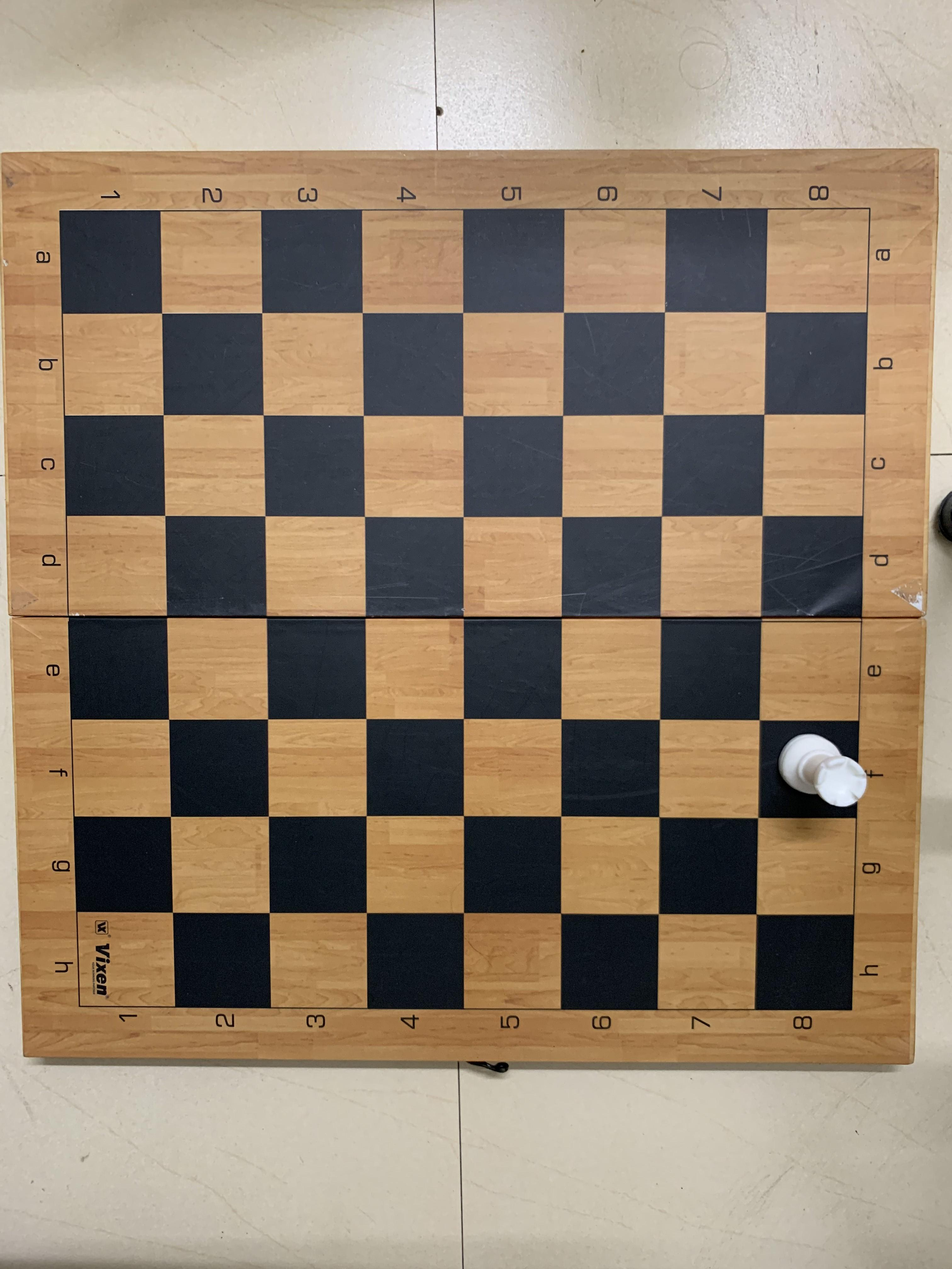white_rook: (765, 728, 871, 829)
